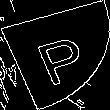P_N: (22, 25, 88, 85)
